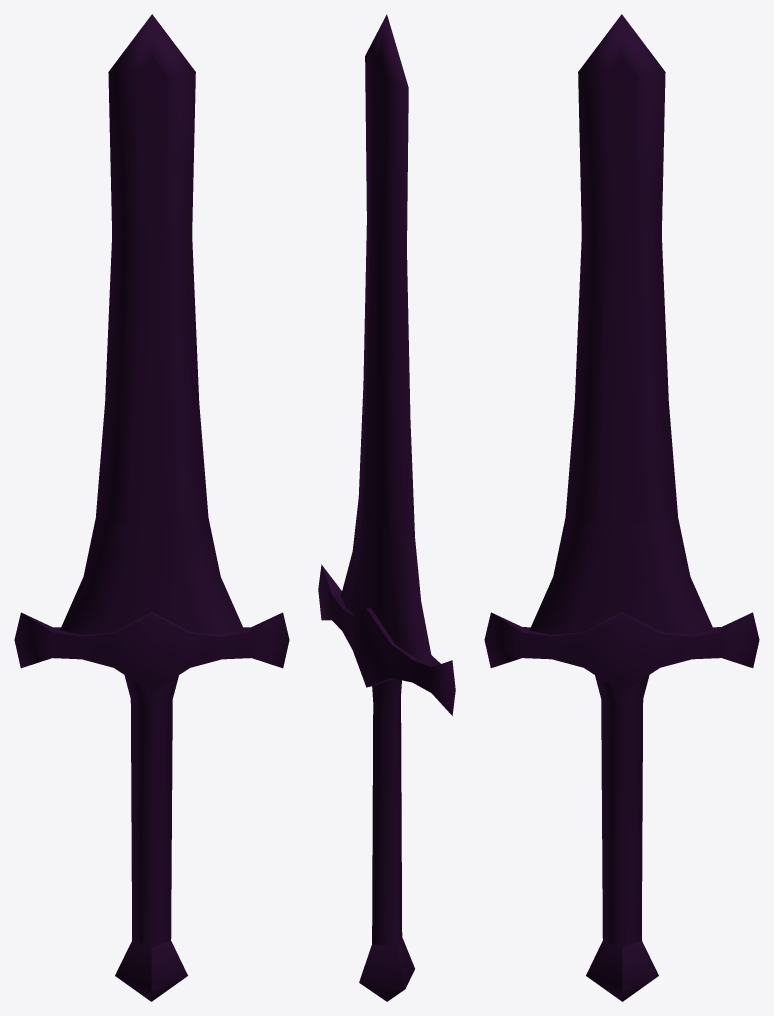
File: greatsword09_small_f860d96f.glb
3 views of the same model, side by side, from view 1: azimuth 90°, elevation 25°; view 2: azimuth 210°, elevation 25°; view 3: azimuth 270°, elevation 25° (orthographic).
Bounding box in the file's own units: 0.1237 × 2.05 × 0.5182.
Materials: 1 (1 with a texture image).
